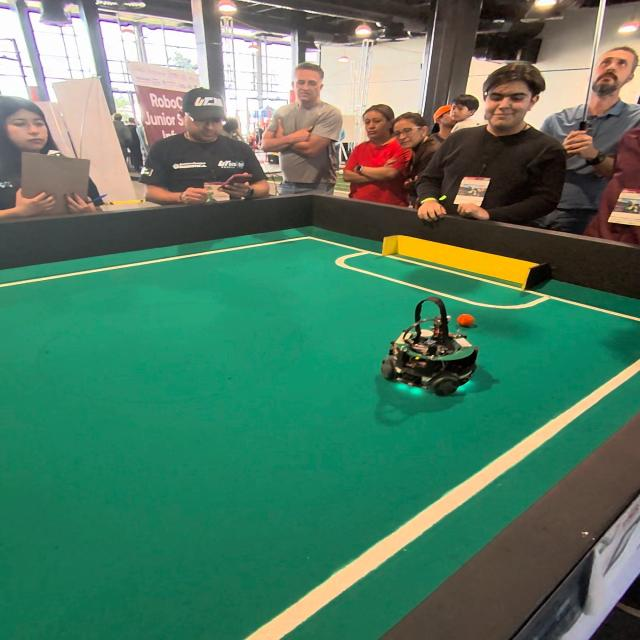Robot: (380, 294, 482, 408)
pelota: (456, 304, 488, 333)
